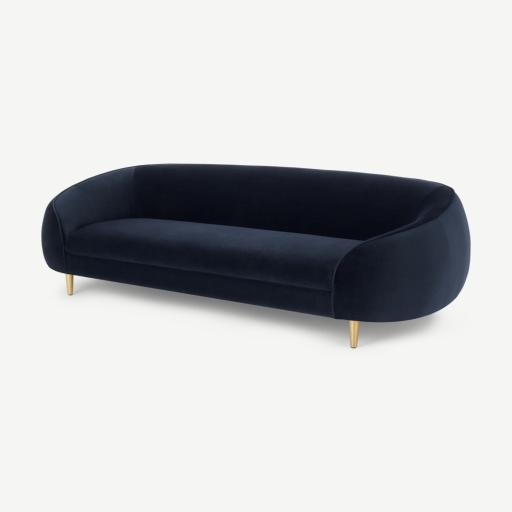back_cushion: (133, 165, 438, 240)
left_arm: (332, 196, 468, 321)
legs: (350, 320, 359, 347), (66, 274, 73, 295), (233, 299, 254, 303), (193, 290, 205, 295), (278, 307, 295, 310), (151, 285, 160, 289)
one-seater: (42, 164, 470, 347)
right_arm: (54, 167, 134, 237)
seat_cushion: (66, 218, 360, 291)
